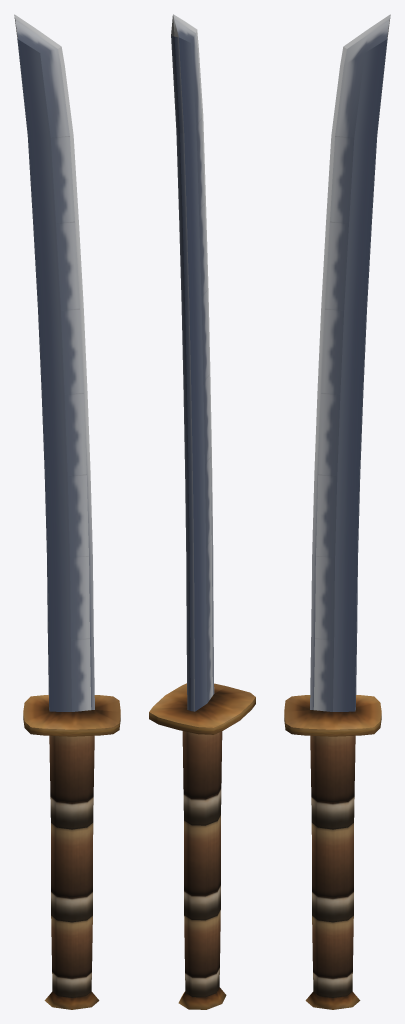
Rendered from ninjablade.glb.
The picture shows the model from 3 angles, left to right: view 1: azimuth 90°, elevation 25°; view 2: azimuth 150°, elevation 25°; view 3: azimuth 270°, elevation 25°; orthographic projection. The views are drawn at different scales.
Visible parts, largest first — view 1: Box001; view 2: Box001; view 3: Box001.
Part boxes in pixels (x1,y1,x2,y2): Box001: [14, 14, 120, 1009]; Box001: [149, 14, 255, 1009]; Box001: [284, 14, 390, 1009].
Size of the model in its own units: 0.0798 by 1.03 by 0.1006.
Materials: 1 (1 with a texture image).
